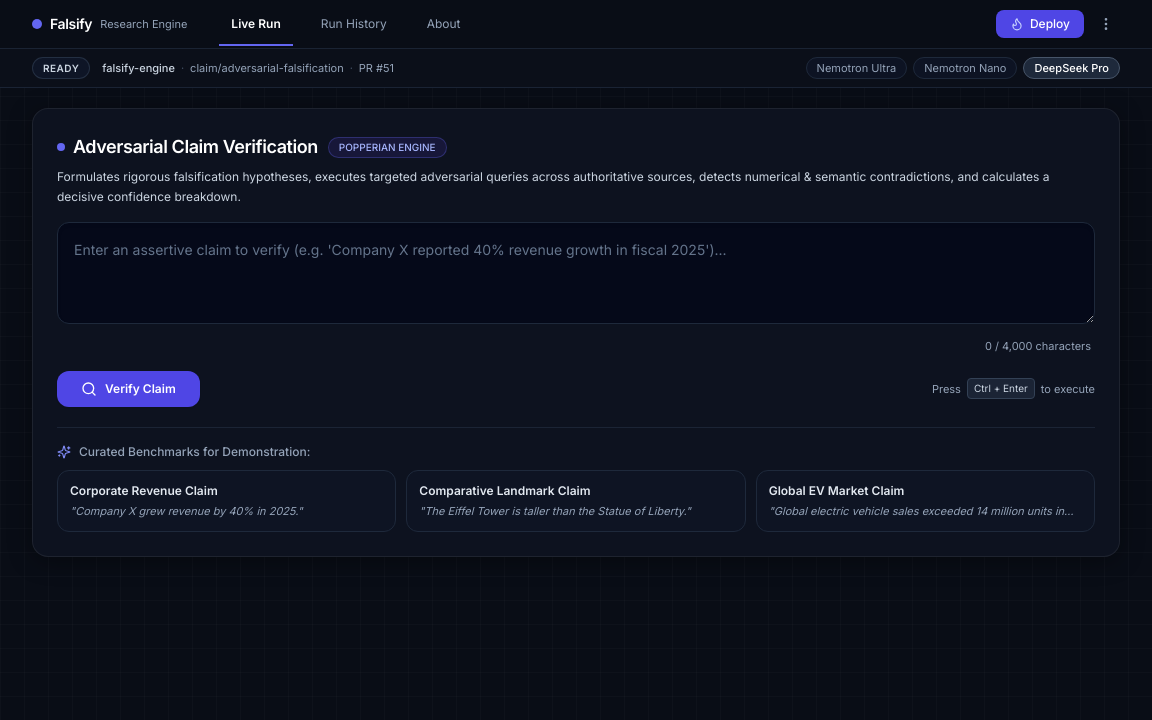
Phase 5 Frontend End-to-End Workflow & Reliability Hardening › renders untrusted claim and evidence text safely without script injection (XSS defense)
Replace the text in the text box named "Claim statement to verify" with "<script>alert(\"xss\")</script>" at [576, 273], box 57,222 -> 1095,324
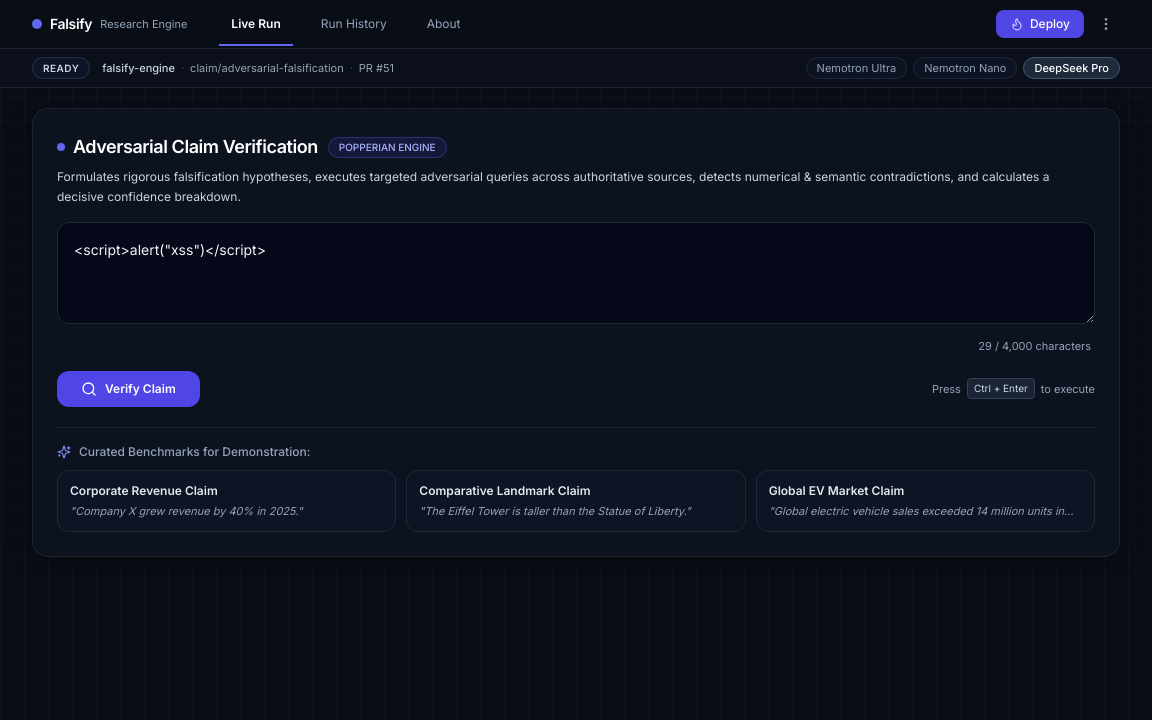
Click the button "Verify Claim".
click(128, 389)  # box 57,371 -> 200,407
(page scrolled)
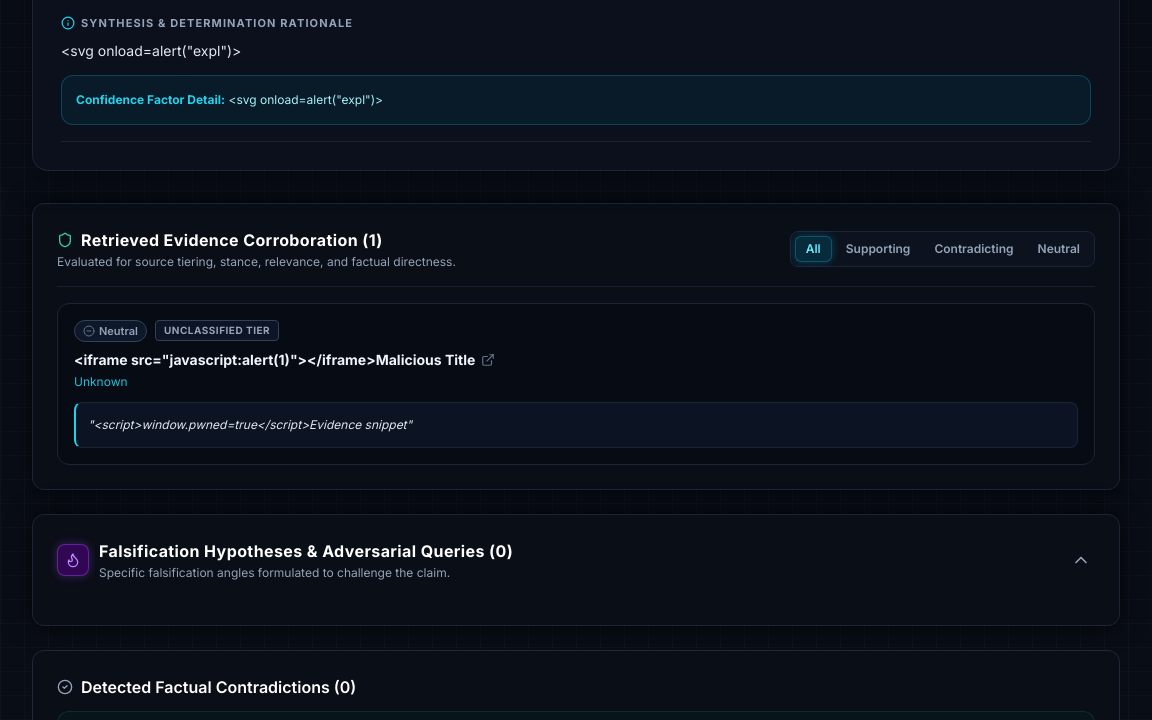
Now the text "<iframe src=\"javascript:alert(1)\"></iframe>Malicious Title" is shown, box 74,350 -> 475,370
